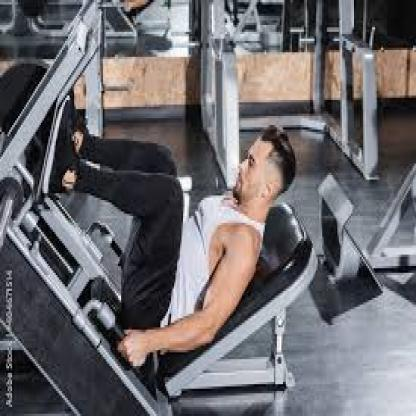leg press: (0, 0, 327, 416)
